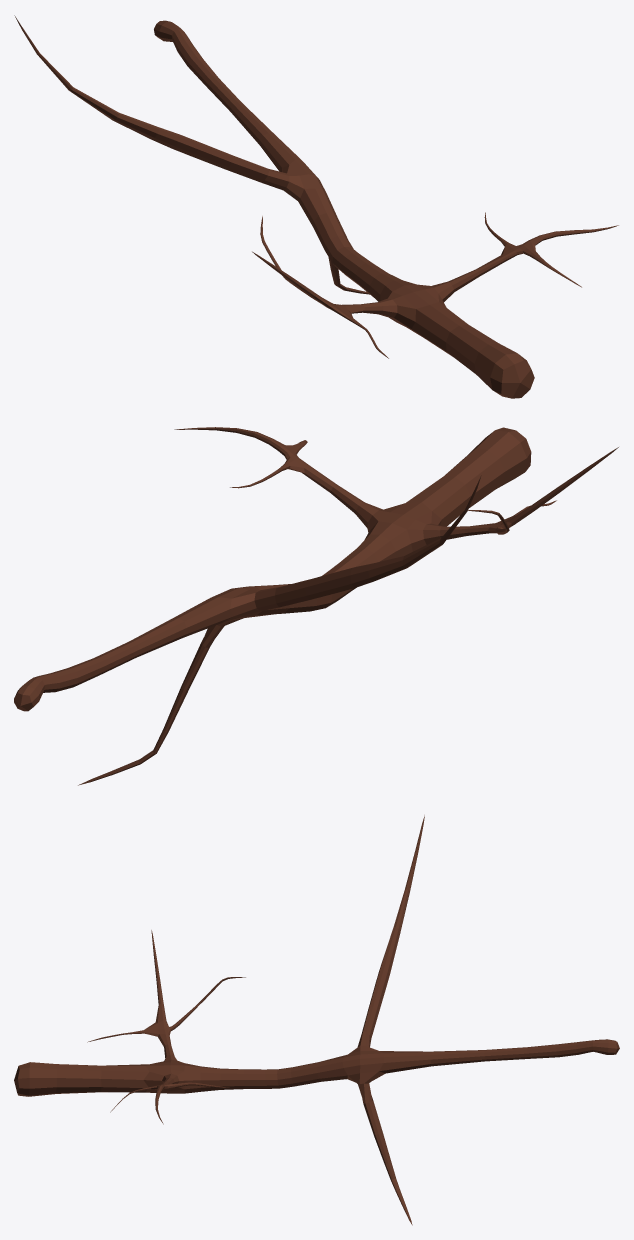
The model's file is TreeLevelEdited2.fbx.
3 views of the same model, one above another, from view 1: azimuth 30°, elevation 25°; view 2: azimuth 150°, elevation 25°; view 3: azimuth 270°, elevation 25° (orthographic). The views are drawn at different scales.
Parts seen in each view (by area): view 1: Cylinder.004; view 2: Cylinder.004; view 3: Cylinder.004.
Boxes of the visible parts, left/top/right/bottom form: Cylinder.004: left=14, top=15, right=618, bottom=398; Cylinder.004: left=14, top=427, right=618, bottom=785; Cylinder.004: left=14, top=815, right=619, bottom=1225.
Bounding box in the file's own units: 806 × 640 × 1264.
